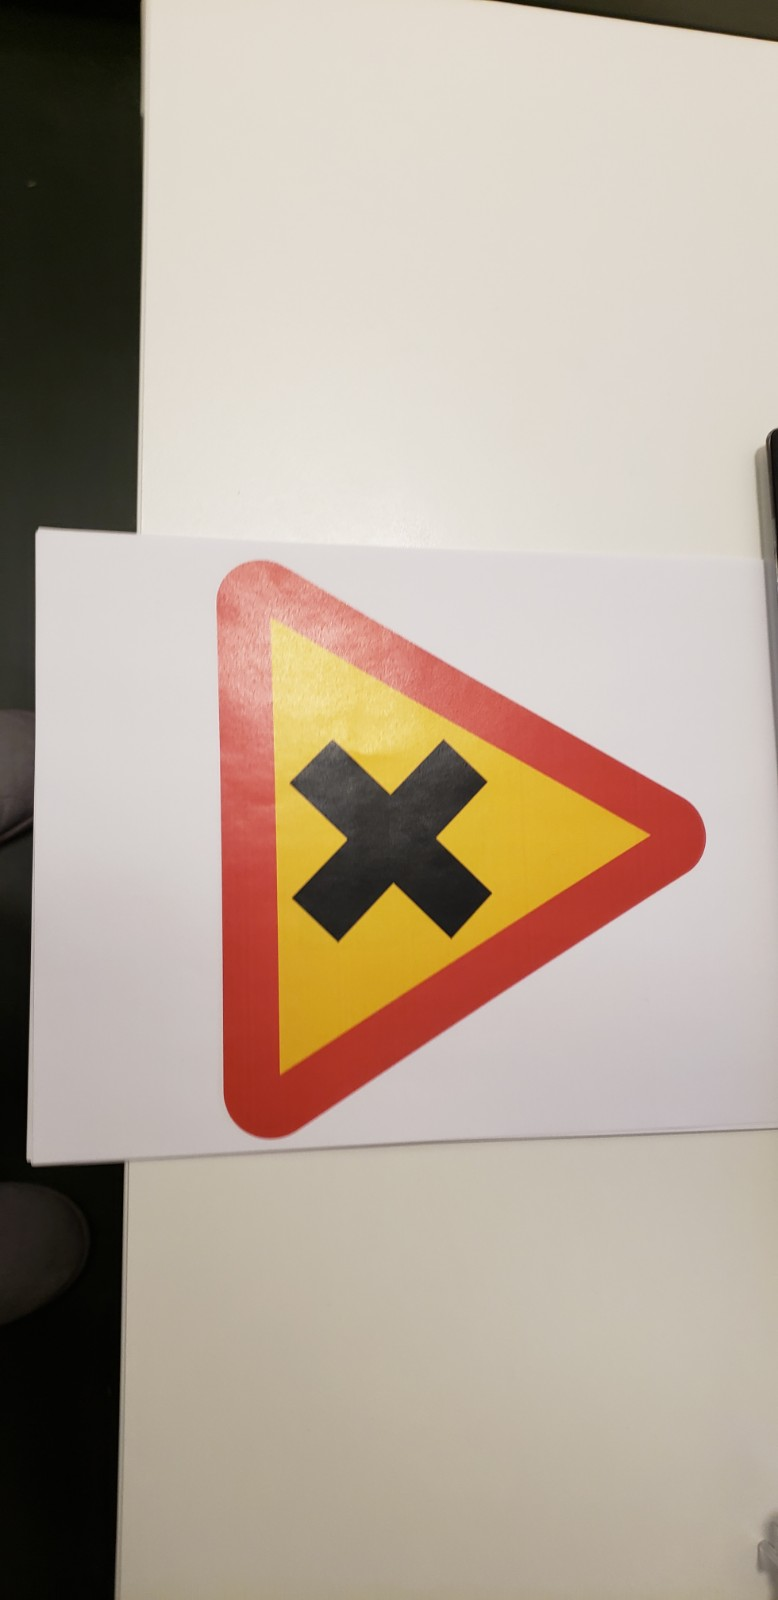junction: (180, 534, 733, 1149)
